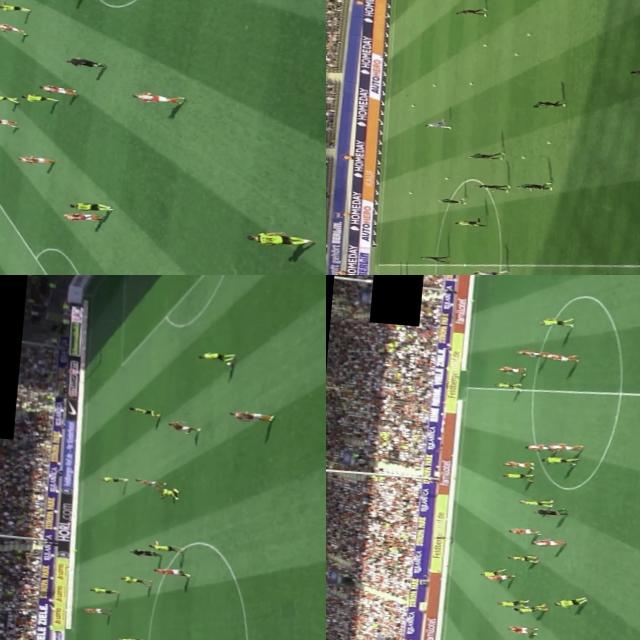ball: (222, 359, 235, 365), (513, 51, 519, 56), (466, 80, 472, 84), (429, 82, 435, 86), (407, 189, 412, 193), (526, 31, 531, 34), (546, 139, 550, 142), (520, 156, 525, 158), (409, 103, 414, 105), (444, 176, 448, 178), (482, 44, 485, 46)
player: (246, 228, 315, 248), (131, 89, 188, 106), (549, 592, 589, 612), (148, 564, 195, 578), (66, 200, 116, 213), (18, 89, 60, 103), (196, 348, 238, 362), (534, 315, 580, 327), (60, 210, 105, 222), (15, 154, 58, 166), (36, 83, 78, 95), (530, 96, 566, 110), (224, 411, 274, 421), (490, 362, 528, 375), (540, 453, 577, 466), (509, 602, 546, 615), (0, 20, 32, 35), (476, 179, 512, 192), (499, 468, 532, 482), (164, 421, 202, 433), (530, 536, 568, 548), (516, 496, 553, 508), (496, 596, 530, 609), (130, 476, 169, 487), (514, 180, 556, 190), (506, 524, 540, 536), (119, 572, 150, 585), (540, 350, 580, 360), (500, 458, 536, 469), (123, 406, 162, 416), (482, 570, 514, 582), (468, 150, 506, 160), (0, 2, 34, 13), (418, 252, 452, 263), (455, 4, 486, 16), (547, 440, 584, 450), (514, 346, 550, 356), (503, 552, 538, 562), (490, 378, 521, 389), (505, 624, 537, 634), (146, 542, 180, 551), (86, 585, 120, 594), (522, 442, 552, 452), (473, 267, 508, 275), (478, 566, 506, 576), (436, 194, 466, 203), (100, 473, 127, 483), (82, 604, 109, 614), (0, 90, 20, 103), (0, 114, 20, 127), (157, 487, 180, 498), (426, 117, 451, 127), (112, 634, 153, 640)
